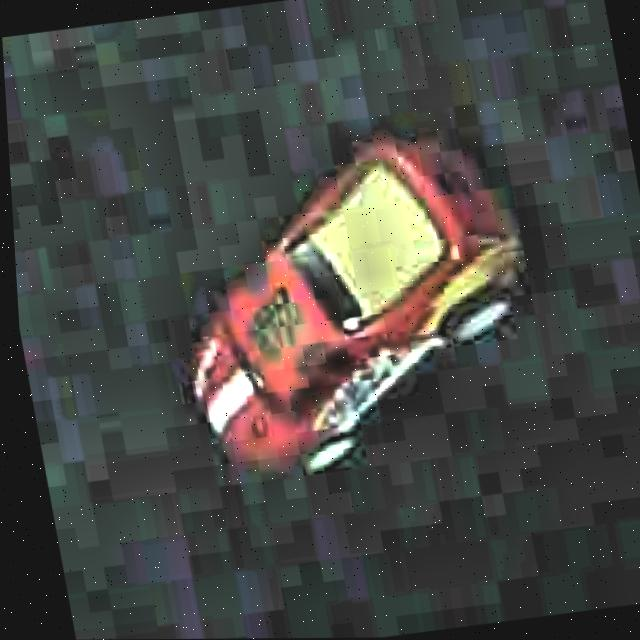car: (136, 117, 565, 491)
